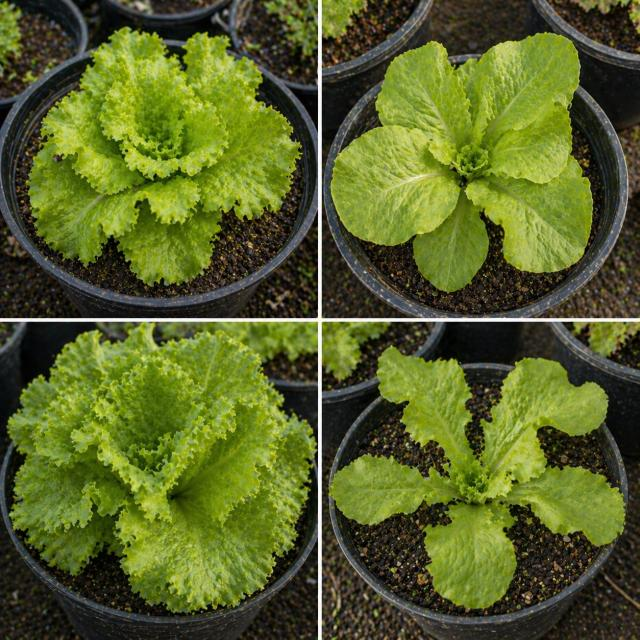inmadura: (330, 347, 624, 608), (330, 33, 591, 291)
lista_para_cosechar: (8, 323, 314, 613), (27, 27, 301, 285)
